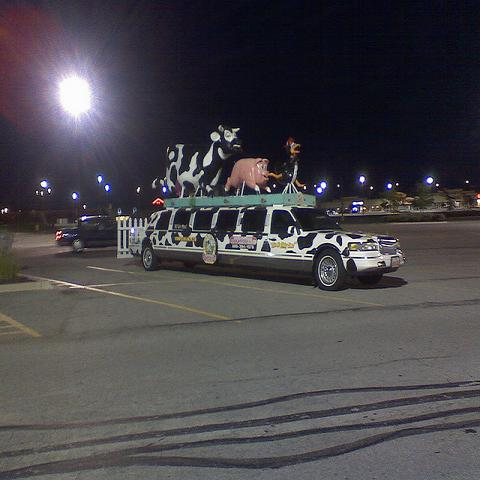car: (127, 205, 403, 293), (55, 215, 118, 254)
